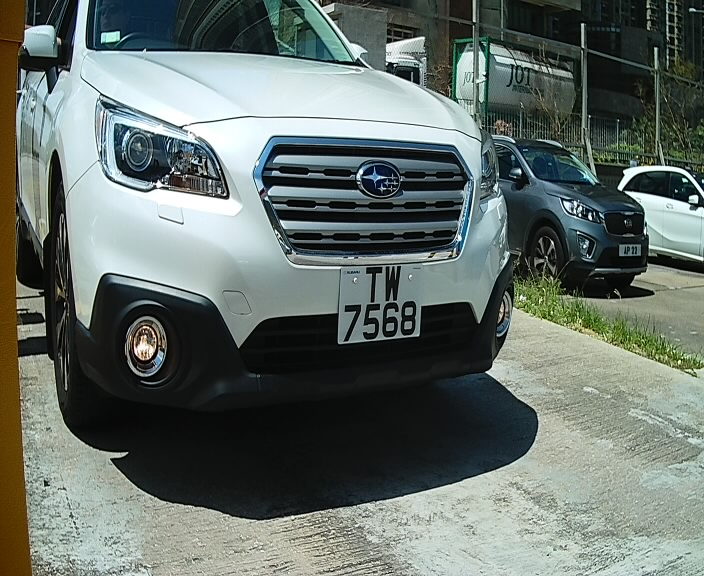Car: (2, 2, 521, 454)
License Plate: (329, 255, 431, 360)
